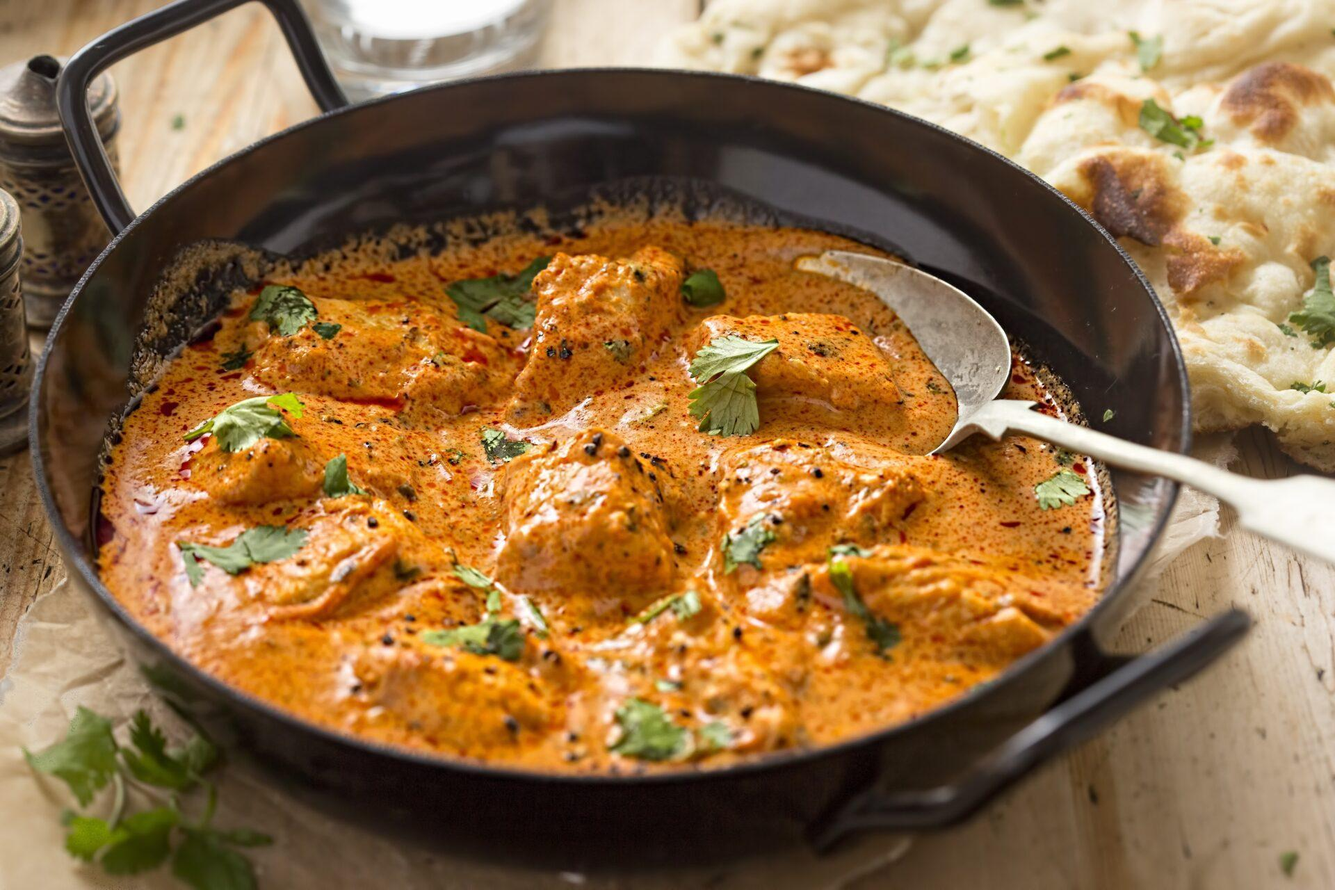chicken: (93, 191, 1124, 746)
